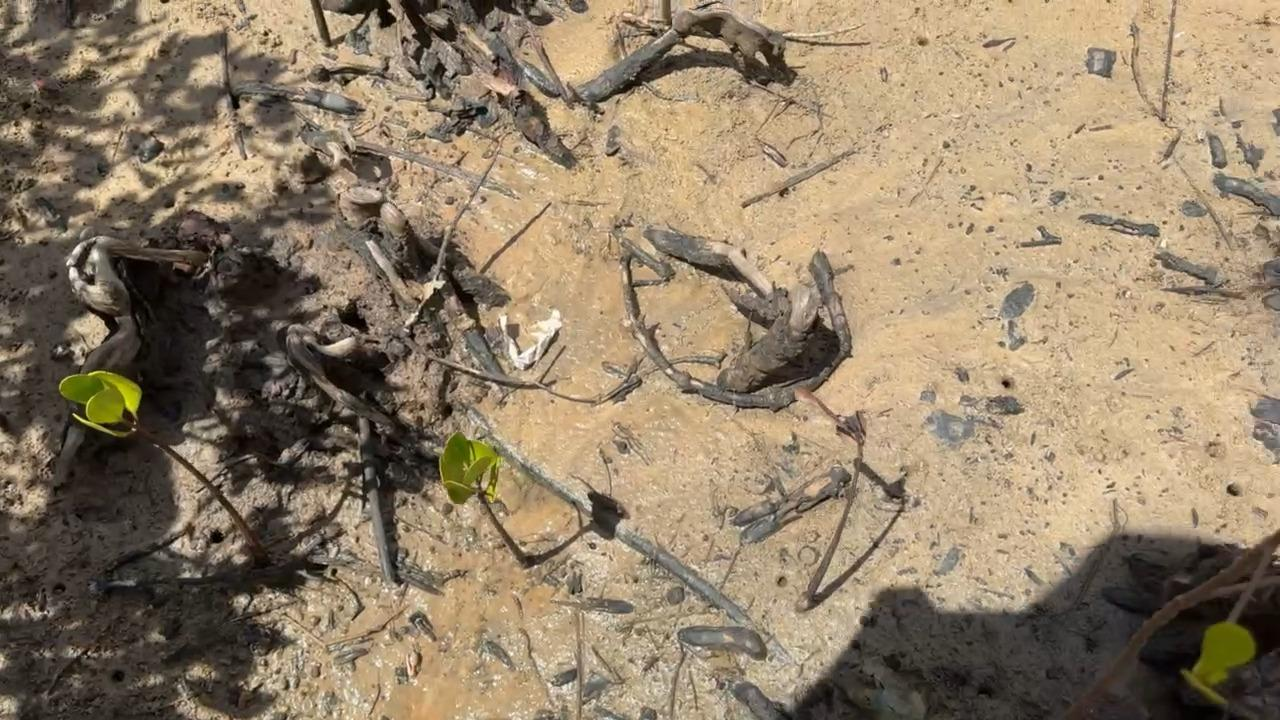Tree: (59, 370, 268, 566), (440, 431, 527, 566)
